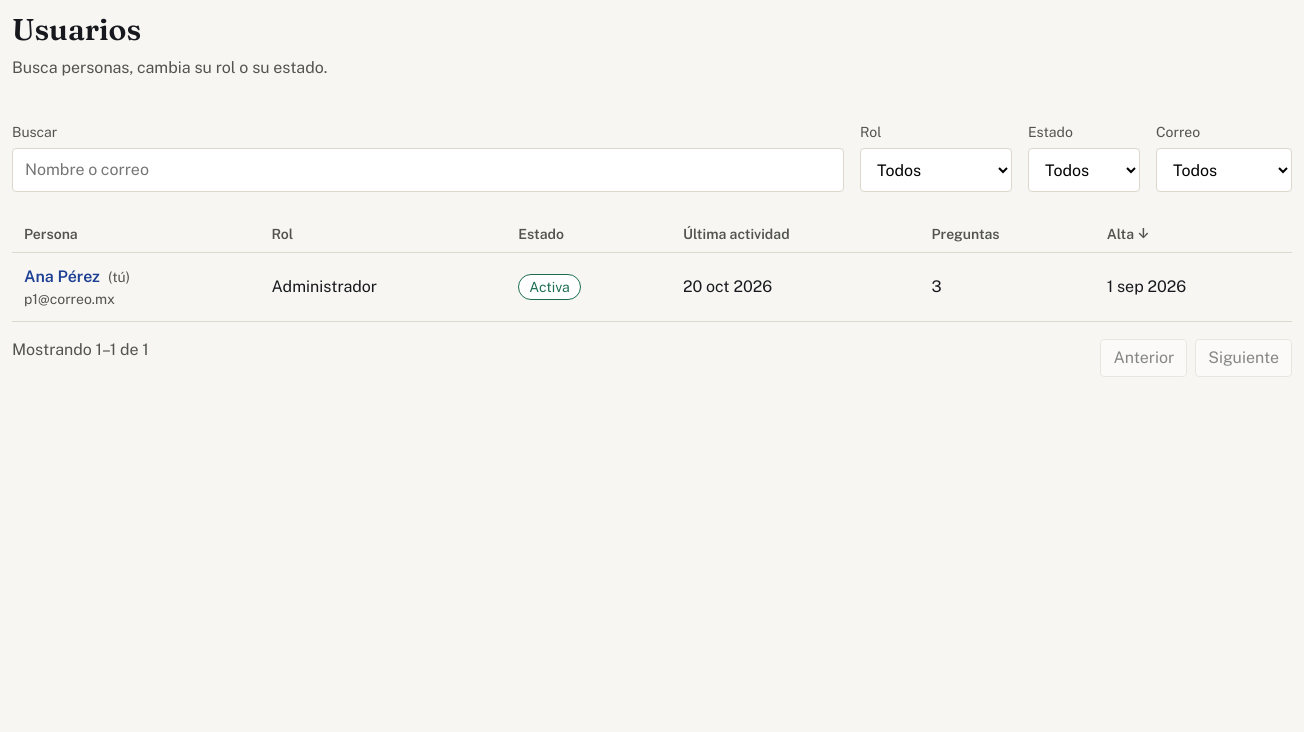
Test case: Usuarios › en la fila propia las acciones están deshabilitadas y se explica por qué
The image size is (1304, 732).
What coordinates should you click on to do the following:
click the button "Ana Pérez"
I would click on:
 (62, 277)
Its box is [24,265,100,289].
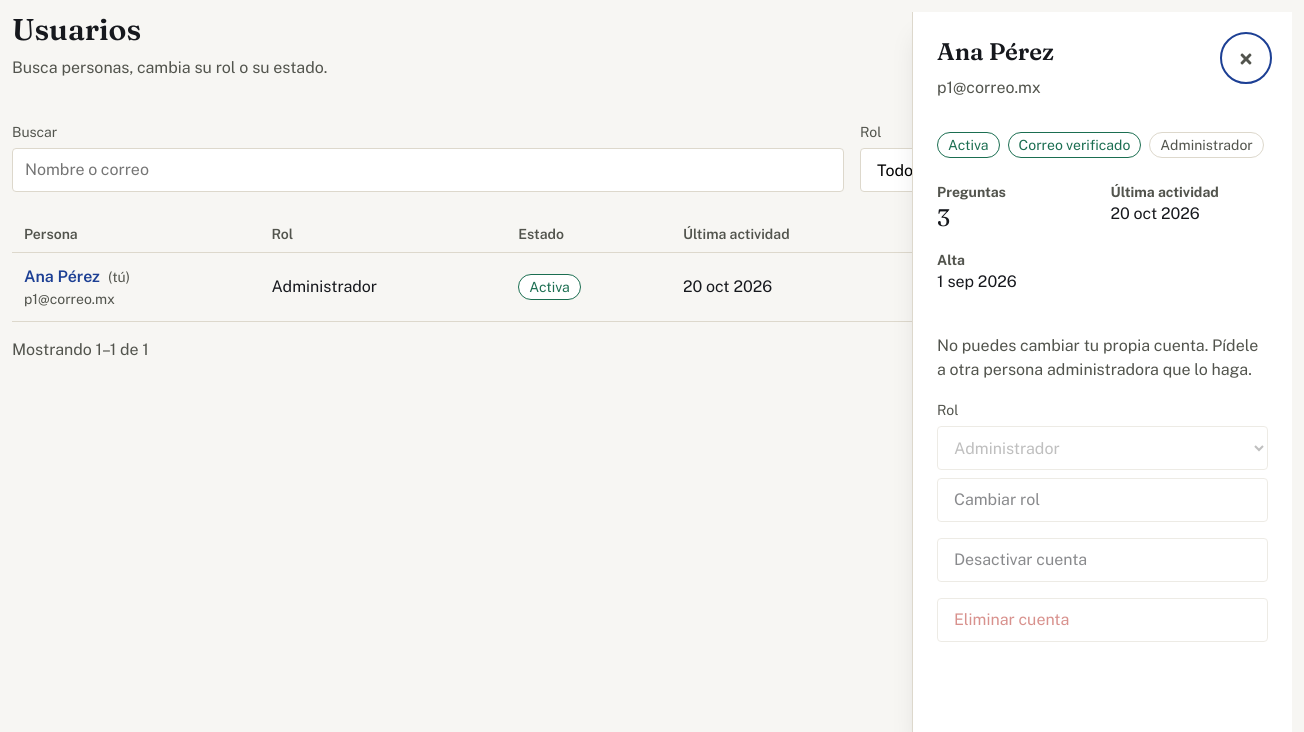
expect the button "Cambiar rol" is disabled: met, box [937,478,1268,522]
expect the button "Desactivar cuenta" is disabled: met, box [937,538,1268,582]
expect the button "Eliminar cuenta" is disabled: met, box [937,598,1268,642]
